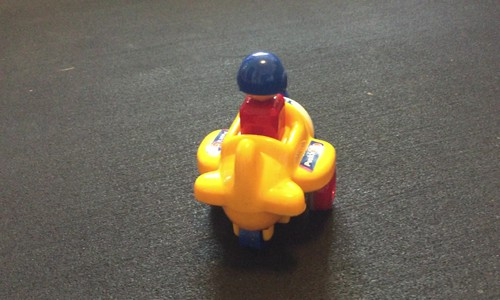toy: (202, 50, 341, 258)
